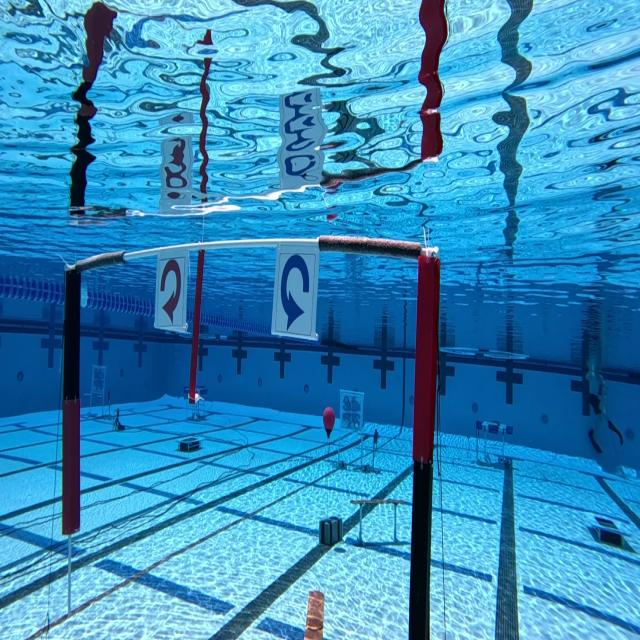blue_side: (277, 242, 315, 340)
red_side: (156, 248, 188, 334)
